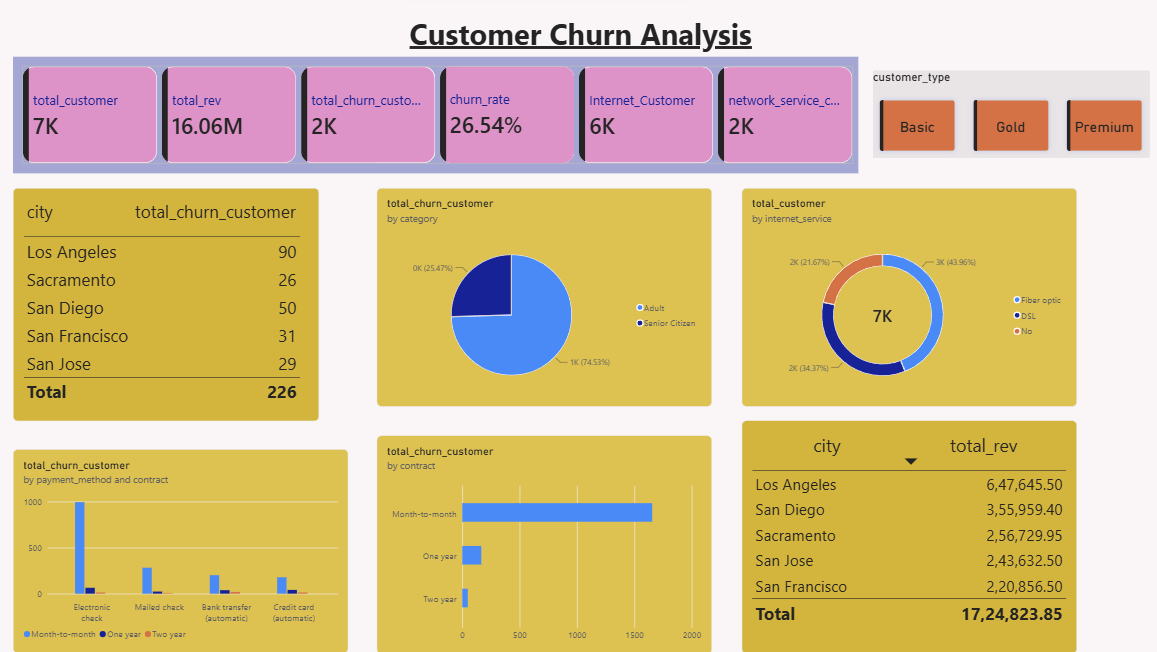

This screenshot's page, from the dashboard's own definition file:
{"tool":"powerbi","page":{"name":"Page 1","canvas":[1920,1080],"ordinal":0},"visuals":[{"type":"cardVisual","fields":{"Data":["measure.total_customer","measure.total_rev","measure.total_churn_customer","measure.churn_ratee","measure.Total_Internet_Customer","measure.network_service_churn"]},"box":[24,96,1392,192],"z":0},{"type":"tableEx","fields":{"Values":["customer_churn.city","measure.total_churn_customer"]},"box":[24,312,504,384],"z":2000},{"type":"donutChart","fields":{"Category":["customer_churn.internet_service"],"Y":["measure.total_customer"]},"box":[1224,312,552,360],"z":3000},{"type":"clusteredColumnChart","fields":{"Category":["customer_churn.payment_method"],"Series":["customer_churn.contract"],"Y":["measure.total_churn_customer"]},"box":[24,744,552,336],"z":4000},{"type":"pieChart","fields":{"Category":["customer_churn.category"],"Y":["measure.total_churn_customer"]},"box":[624,312,552,360],"z":5000},{"type":"advancedSlicerVisual","fields":{"Values":["customer_churn.customer_type"]},"box":[1440,120,456,144],"z":6000},{"type":"tableEx","fields":{"Values":["customer_churn.city","measure.total_rev"]},"box":[1224,696,552,384],"z":8000},{"type":"clusteredBarChart","fields":{"Category":["customer_churn.contract"],"Y":["measure.total_churn_customer"]},"box":[624,720,552,360],"z":8001},{"type":"textbox","box":[480,24,960,72],"z":8002}]}

Visuals, with their boxes in screenshot pixels (x1, y1, x2, y2), scaled from the page's 1920x1080 canvas onto the 1157x652 screenshot:
cardVisual - measure.total_customer x measure.total_rev: Rect(14, 58, 853, 174)
tableEx - customer_churn.city x measure.total_churn_customer: Rect(14, 188, 318, 420)
donutChart - customer_churn.internet_service x measure.total_customer: Rect(738, 188, 1070, 406)
clusteredColumnChart - customer_churn.payment_method x customer_churn.contract: Rect(14, 449, 347, 651)
pieChart - customer_churn.category x measure.total_churn_customer: Rect(376, 188, 709, 406)
advancedSlicerVisual - customer_churn.customer_type: Rect(868, 72, 1143, 159)
tableEx - customer_churn.city x measure.total_rev: Rect(738, 420, 1070, 651)
clusteredBarChart - customer_churn.contract x measure.total_churn_customer: Rect(376, 435, 709, 651)
textbox: Rect(289, 14, 868, 58)
